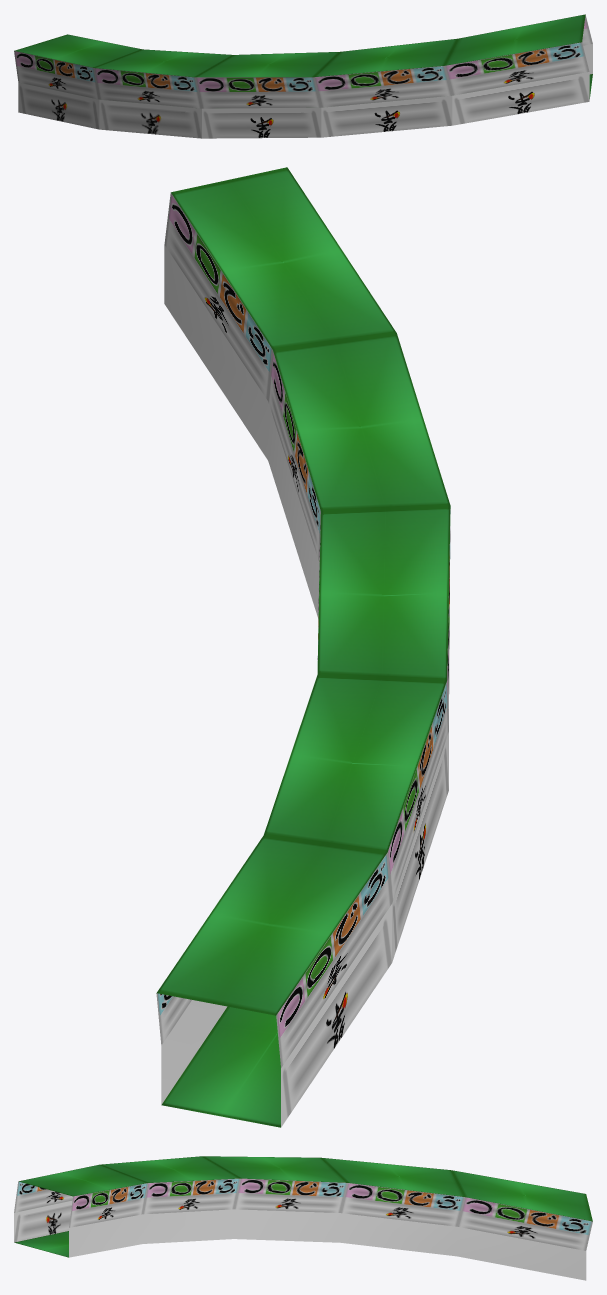
File: CourseSummer_Wall_R_8.fbx
3 views of the same model, one above another, from view 1: azimuth 30°, elevation 25°; view 2: azimuth 150°, elevation 25°; view 3: azimuth 270°, elevation 25° (orthographic). The views are drawn at different scales.
Visible parts, largest first — view 1: polySurface98; view 2: polySurface98; view 3: polySurface98.
Boxes of the visible parts, x1=… form: polySurface98: x1=14, y1=14, x2=592, y2=138; polySurface98: x1=156, y1=167, x2=450, y2=1127; polySurface98: x1=14, y1=1156, x2=592, y2=1280.
Size of the model in its own units: 11.08 by 6.97 by 17.67.
1 material, 1 textured.
